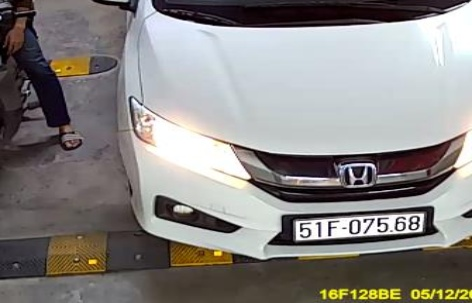plate: (289, 207, 424, 241)
